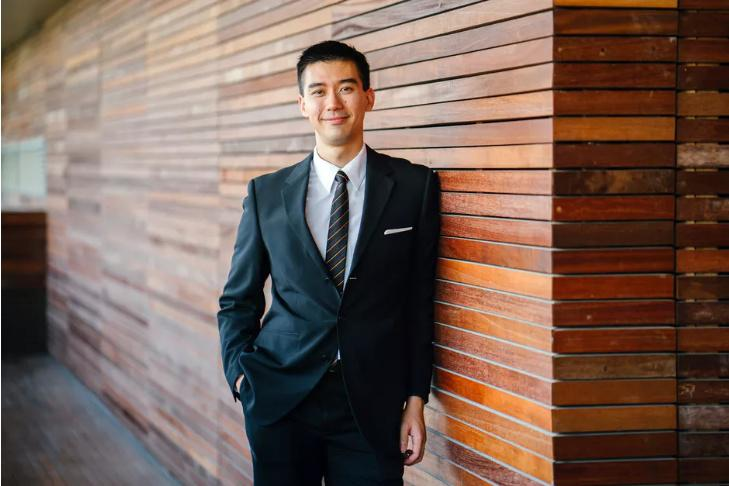face: (304, 60, 362, 143)
